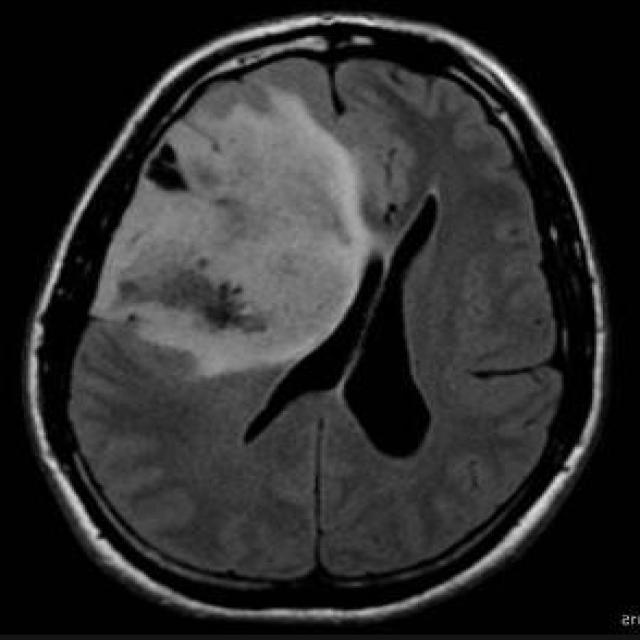Tumor-Cell: (105, 88, 361, 384)
